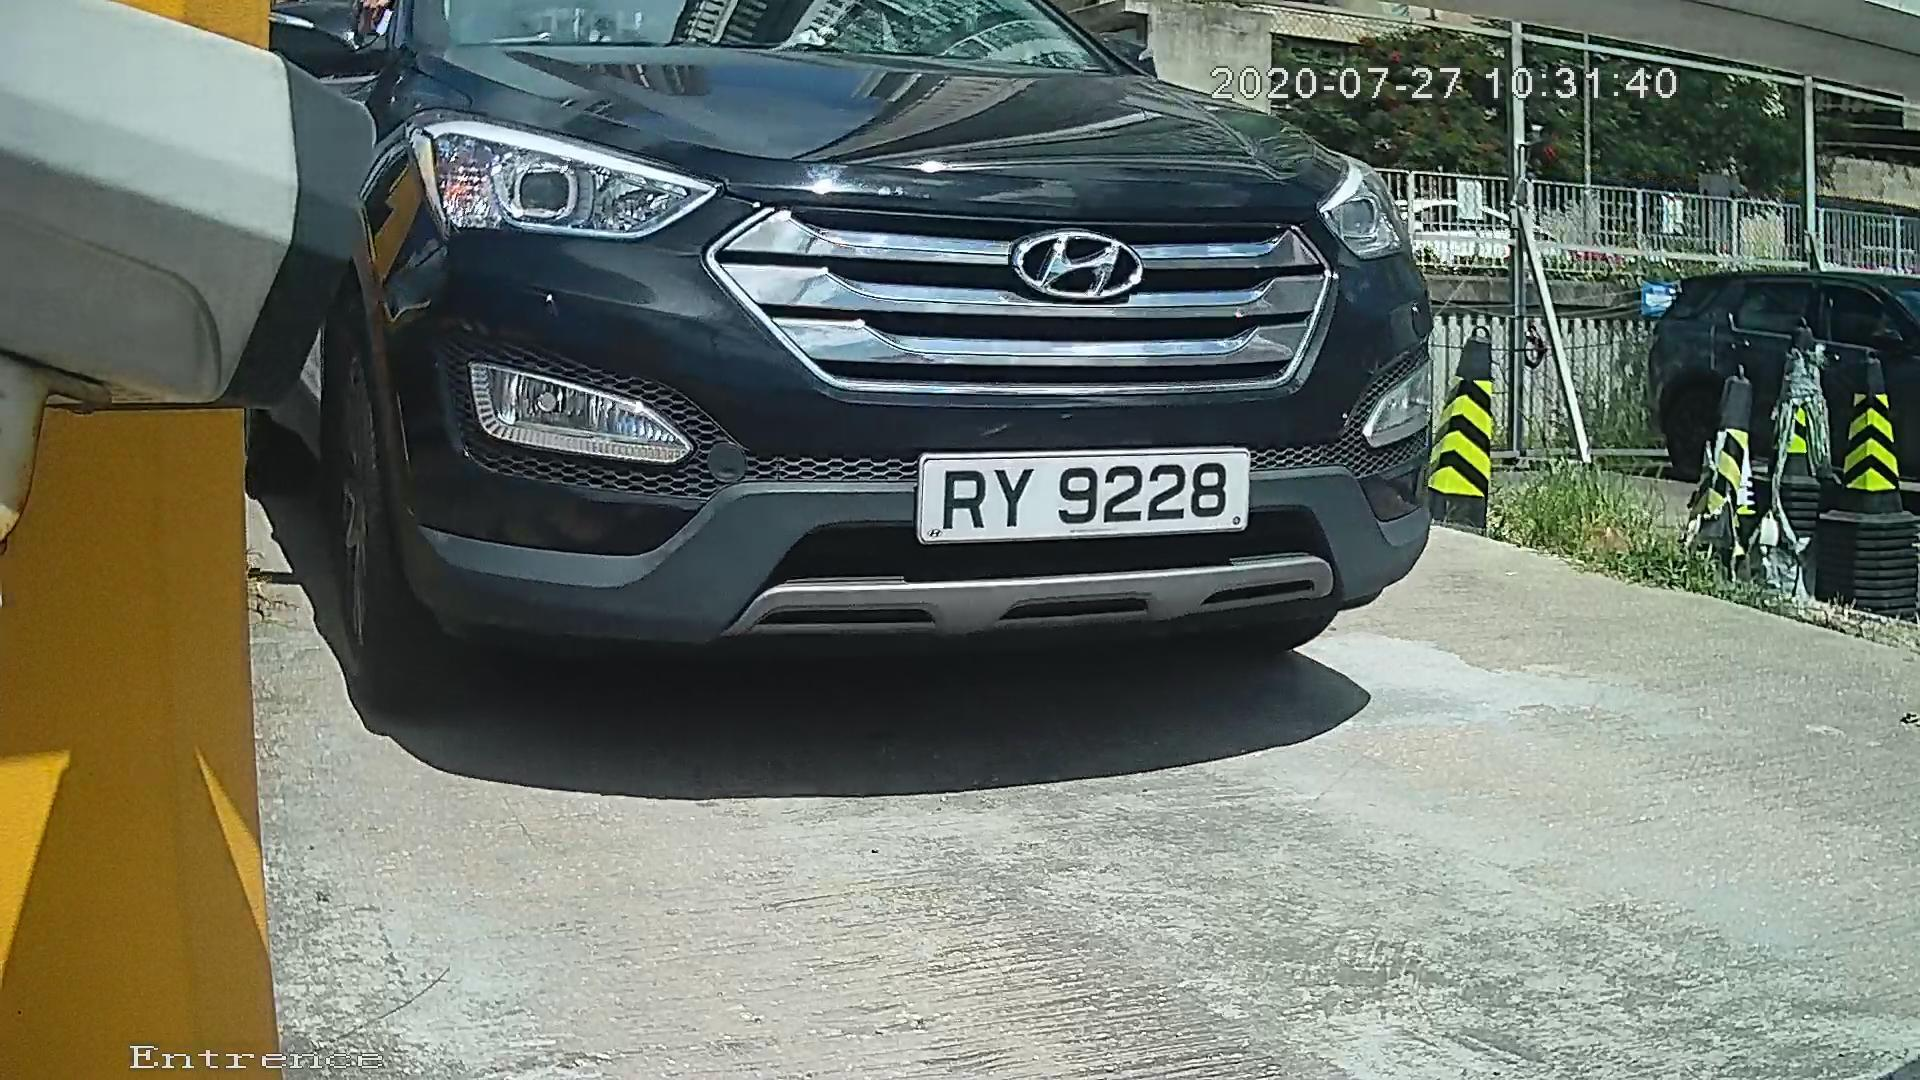Car: (138, 39, 1543, 748)
License Plate: (901, 439, 1252, 555)
